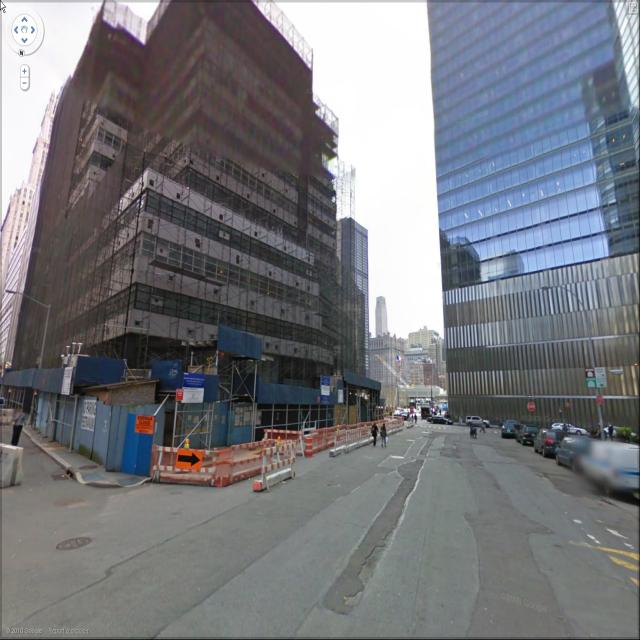b_1: (51, 25, 366, 388), (426, 4, 640, 432), (338, 203, 383, 383)
